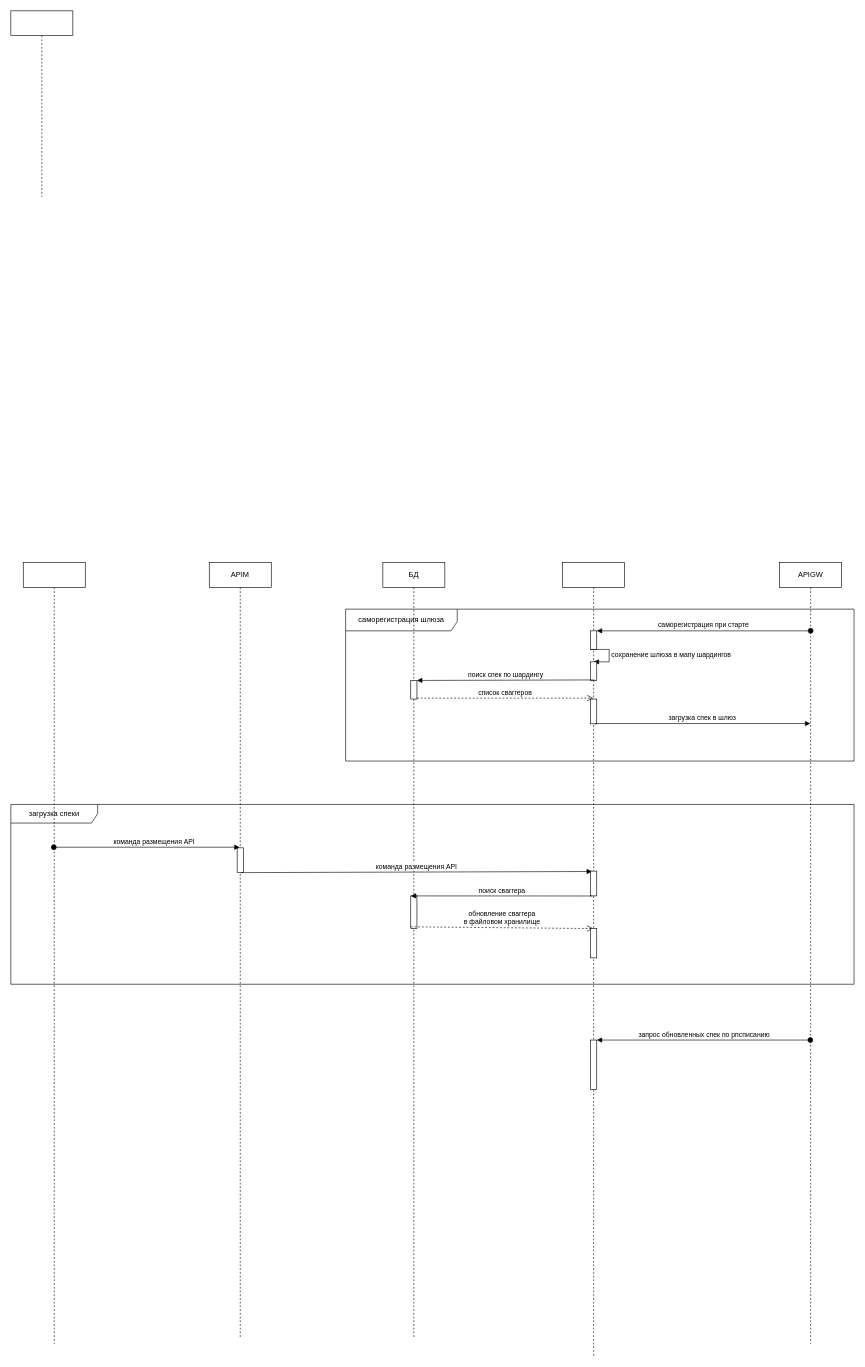
This 865x1367 diagram has some shape labels left out. Each missing label, with the box of its shape:
:Object: (10, 10, 73, 197)
UI: (23, 562, 85, 1344)
Распределитель данных: (562, 562, 625, 1356)
